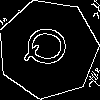Q: (23, 24, 77, 70)
